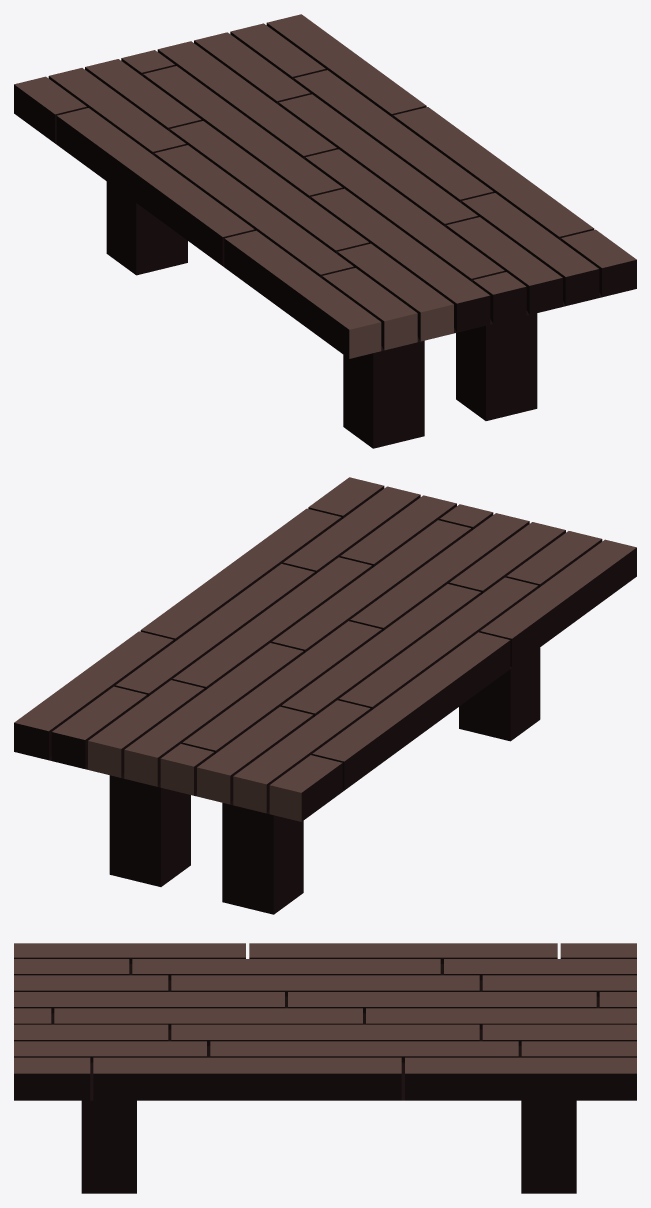
Rendered from table.glb.
The picture shows the model from 3 angles, top to bottom: view 1: azimuth 30°, elevation 25°; view 2: azimuth 150°, elevation 25°; view 3: azimuth 270°, elevation 25°; orthographic projection. The views are drawn at different scales.
Parts seen in each view (by area): view 1: Cube.015; view 2: Cube.015; view 3: Cube.015.
Boxes of the visible parts, x1,y1,x2,y2 form: Cube.015: [14, 14, 636, 448]; Cube.015: [14, 477, 636, 914]; Cube.015: [14, 943, 636, 1193].
Size of the model in its own units: 2.55 by 1.36 by 5.15.
